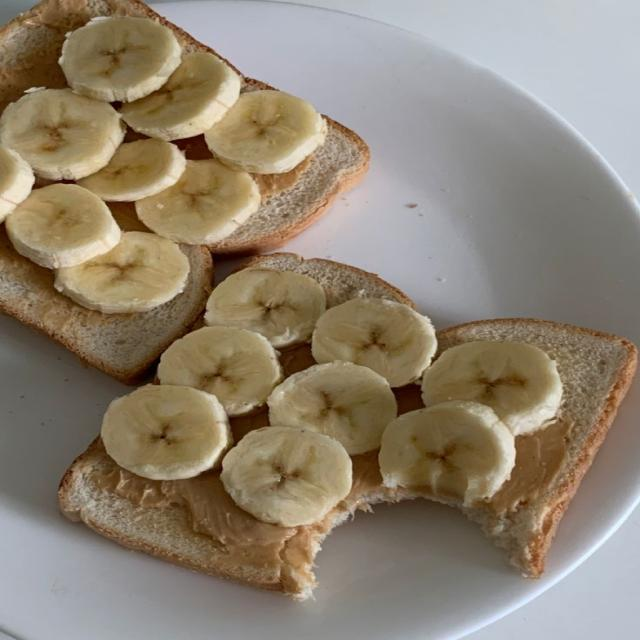sliced_bread: (59, 318, 636, 600), (0, 232, 212, 384), (0, 0, 228, 110), (0, 232, 154, 380), (210, 118, 369, 254), (213, 254, 416, 318), (123, 249, 207, 354), (115, 203, 138, 230)
